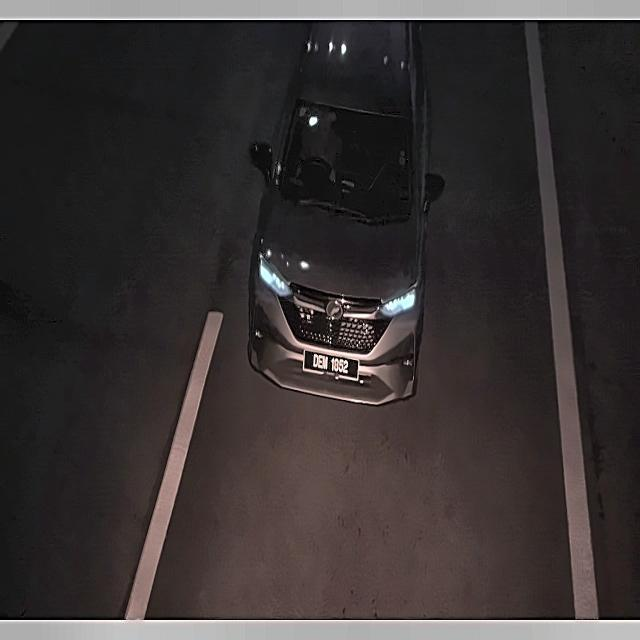car: (306, 349, 360, 384)
